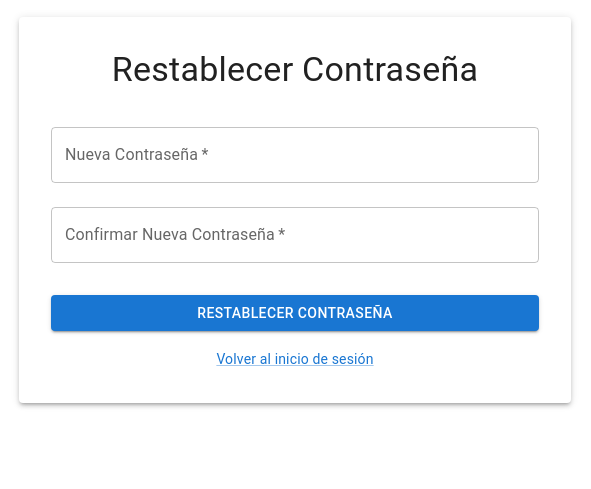
Test case: ResetPassword Component › handles network error during password reset
Type "NewPassword123" into the password field labelled "Nueva Contraseña *" at (295, 155), box [51,127,539,183]
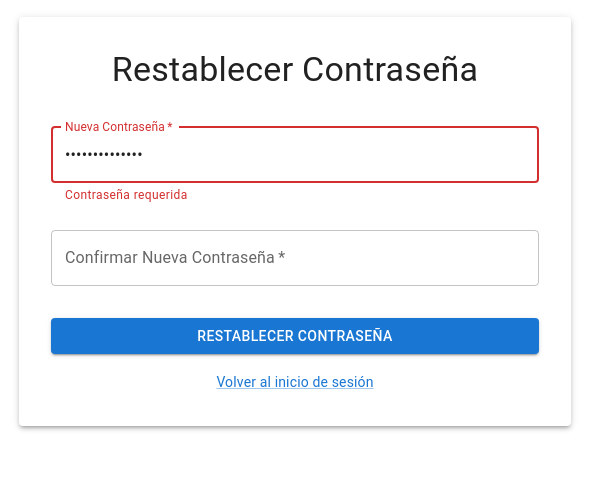
Type "NewPassword123" into the password field labelled "Confirmar Nueva Contraseña *" at (295, 258), box [51,230,539,286]
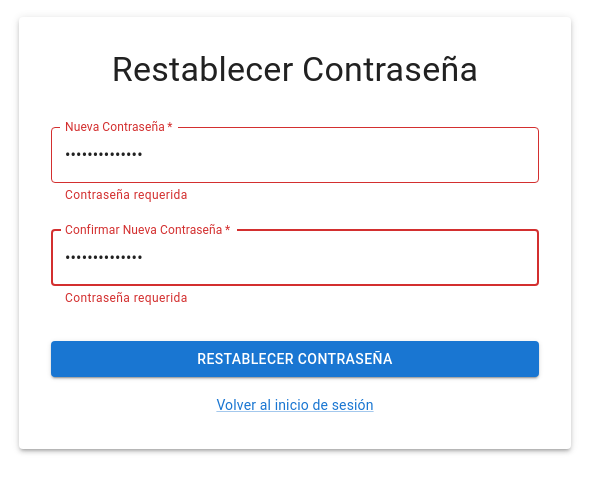
Click the button "Restablecer Contraseña" at (295, 359), box [51,341,539,377]
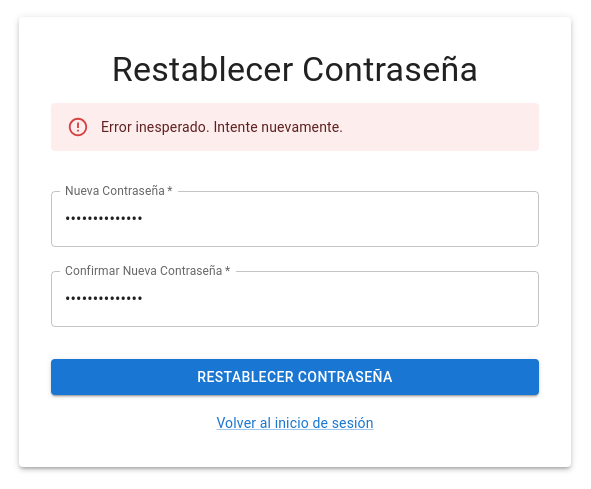
Result: the text "Error inesperado. Intente nuevamente." is shown at [101,119,343,135]
